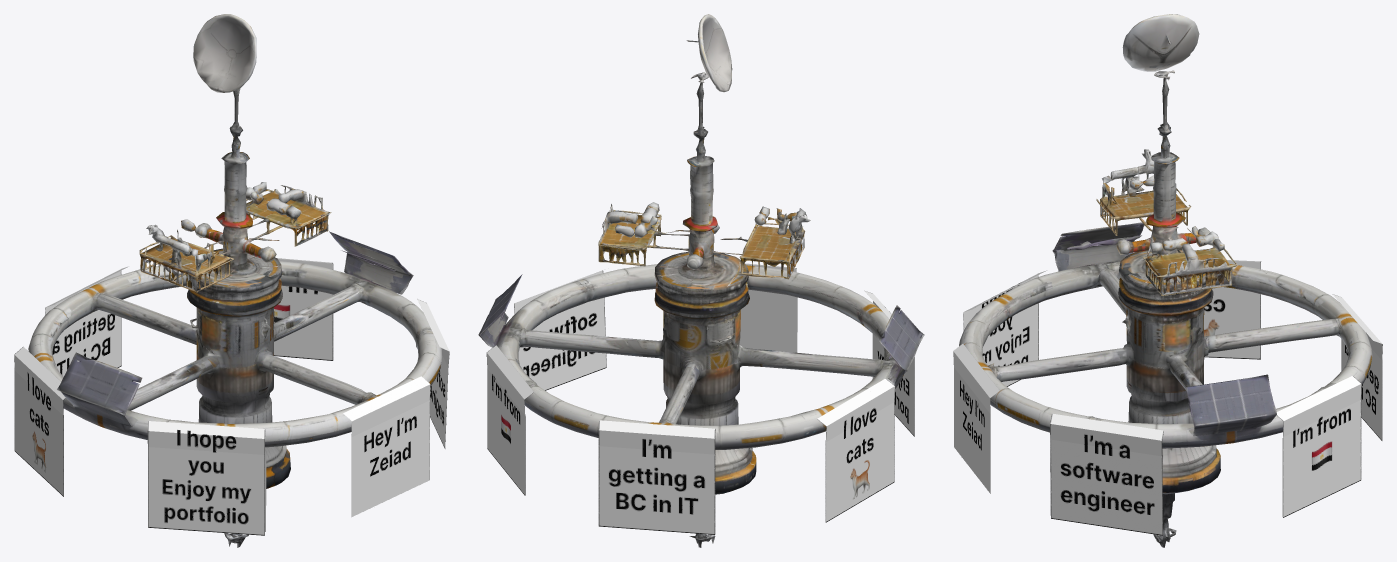
File: spacestation.glb
3 views of the same model, side by side, from view 1: azimuth 30°, elevation 25°; view 2: azimuth 150°, elevation 25°; view 3: azimuth 270°, elevation 25° (orthographic).
Visible parts, largest first — view 1: Mesh_0, Section2, Section1, Section5.001, Section5, Section4, Section3; view 2: Mesh_0, Section5, Section5.001, Section3, Section4, Plane.003, Section2; view 3: Mesh_0, Section3, Section4, Section1, Section5.001, Section2, Section5.
Part boxes in pixels (box(x1,y1,x2,y2)): Mesh_0: box(28, 14, 441, 547); Section2: box(147, 421, 265, 535); Section1: box(343, 376, 430, 517); Section5.001: box(14, 346, 65, 496); Section5: box(45, 266, 128, 376); Section4: box(274, 258, 333, 360); Section3: box(417, 299, 449, 448); Mesh_0: box(478, 14, 924, 547); Section5: box(598, 420, 715, 534); Section5.001: box(817, 378, 895, 522); Section3: box(514, 270, 606, 390); Section4: box(486, 345, 533, 495); Plane.003: box(740, 289, 797, 352); Section2: box(864, 290, 914, 436); Mesh_0: box(959, 14, 1372, 547); Section3: box(1050, 413, 1163, 535); Section4: box(1276, 375, 1361, 517); Section1: box(953, 344, 999, 493); Section5.001: box(1204, 260, 1261, 359); Section2: box(963, 270, 1046, 386); Section5: box(1332, 294, 1382, 440).
Bounding box in the file's own units: 7.49 × 9.89 × 7.24.
Materials: 7 (7 with a texture image).
